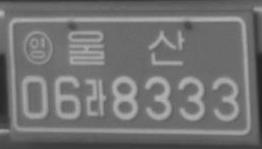0: (21, 74, 48, 119)
3: (211, 75, 241, 122), (144, 75, 173, 122), (176, 75, 206, 120)
6: (53, 74, 81, 120)
8: (110, 74, 139, 121)
라: (84, 77, 107, 118)
영: (21, 29, 54, 65)
울산_D: (66, 29, 185, 67)
